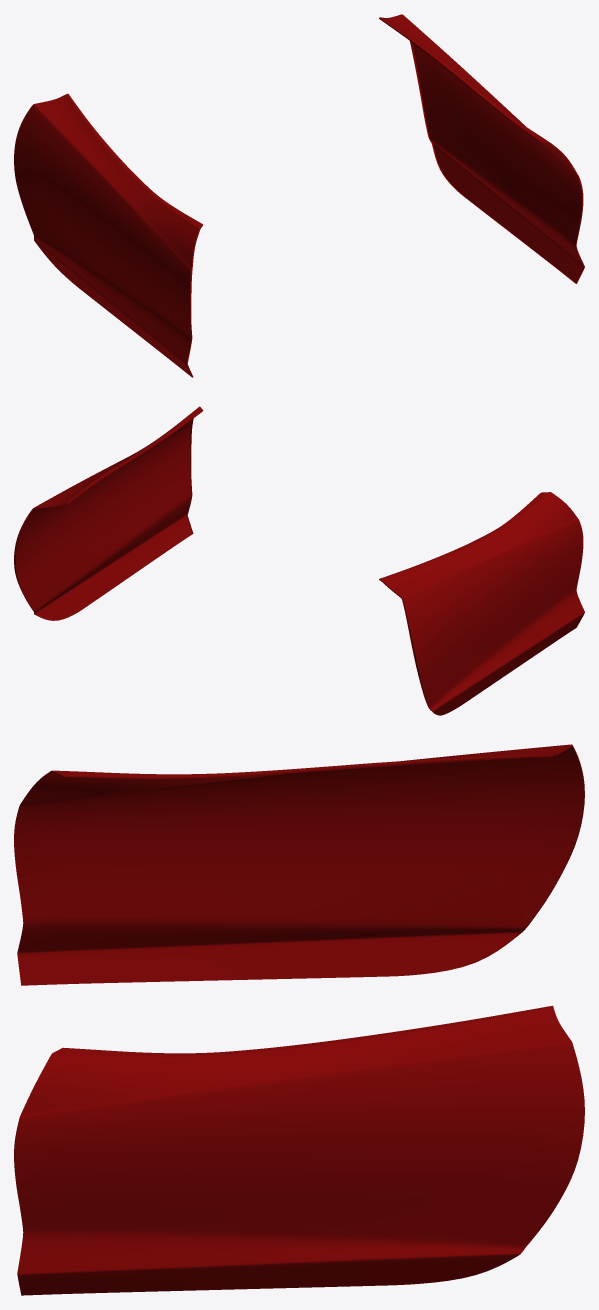
Rendered from c7DOORS.glb.
3 views of the same model, one above another, from view 1: azimuth 30°, elevation 25°; view 2: azimuth 150°, elevation 25°; view 3: azimuth 270°, elevation 25° (orthographic). The views are drawn at different scales.
Parts seen in each view (by area): view 1: Front_Door_Crysal_Red_0; view 2: Front_Door_Crysal_Red_0; view 3: Front_Door_Crysal_Red_0.
Part boxes in pixels (x1,y1,x2,y2): Front_Door_Crysal_Red_0: [14, 14, 584, 377]; Front_Door_Crysal_Red_0: [14, 406, 584, 715]; Front_Door_Crysal_Red_0: [14, 744, 584, 1295].
Bounding box in the file's own units: 1.84 × 0.6841 × 1.36.
